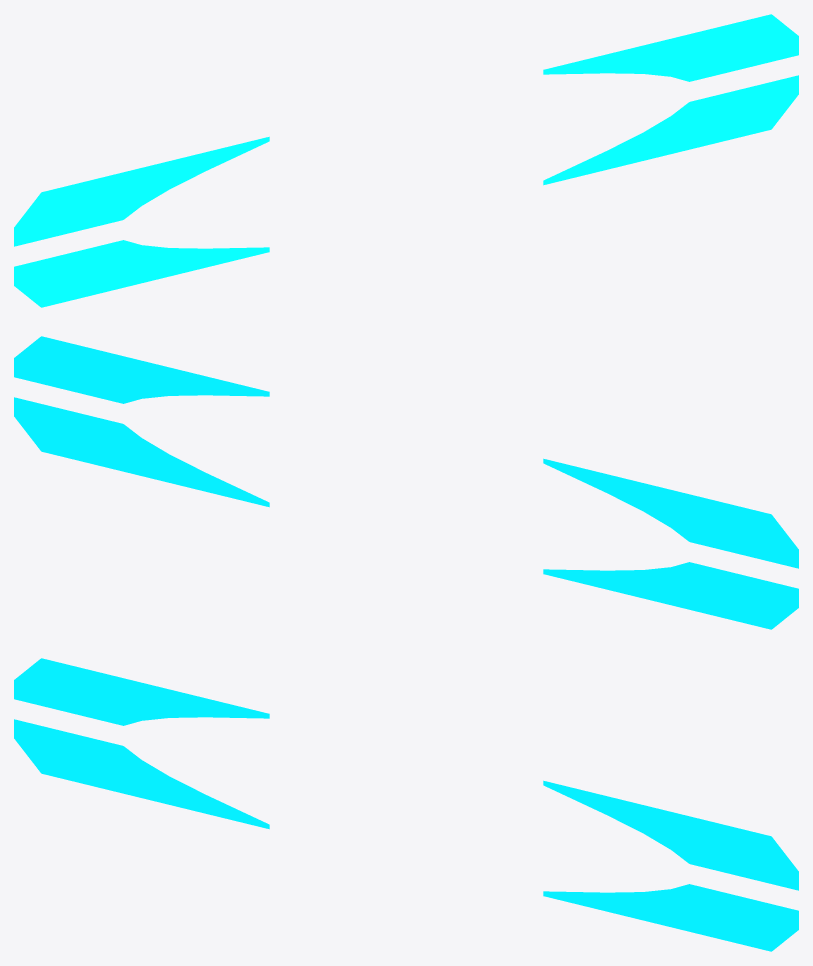
File: 2StageGeneric-OrganFaceBlue.glb
The picture shows the model from 3 angles, top to bottom: view 1: azimuth 30°, elevation 25°; view 2: azimuth 150°, elevation 25°; view 3: azimuth 330°, elevation 25°; orthographic projection.
Visible parts, largest first — view 1: OrganFaceBlue; view 2: OrganFaceBlue; view 3: OrganFaceBlue.
Boxes of the visible parts, <box> form: OrganFaceBlue: <box>14,14,798,307</box>; OrganFaceBlue: <box>14,336,798,629</box>; OrganFaceBlue: <box>14,658,798,951</box>.
Bounding box in the file's own units: 0.86 × 0.1209 × 1.19e-07.
